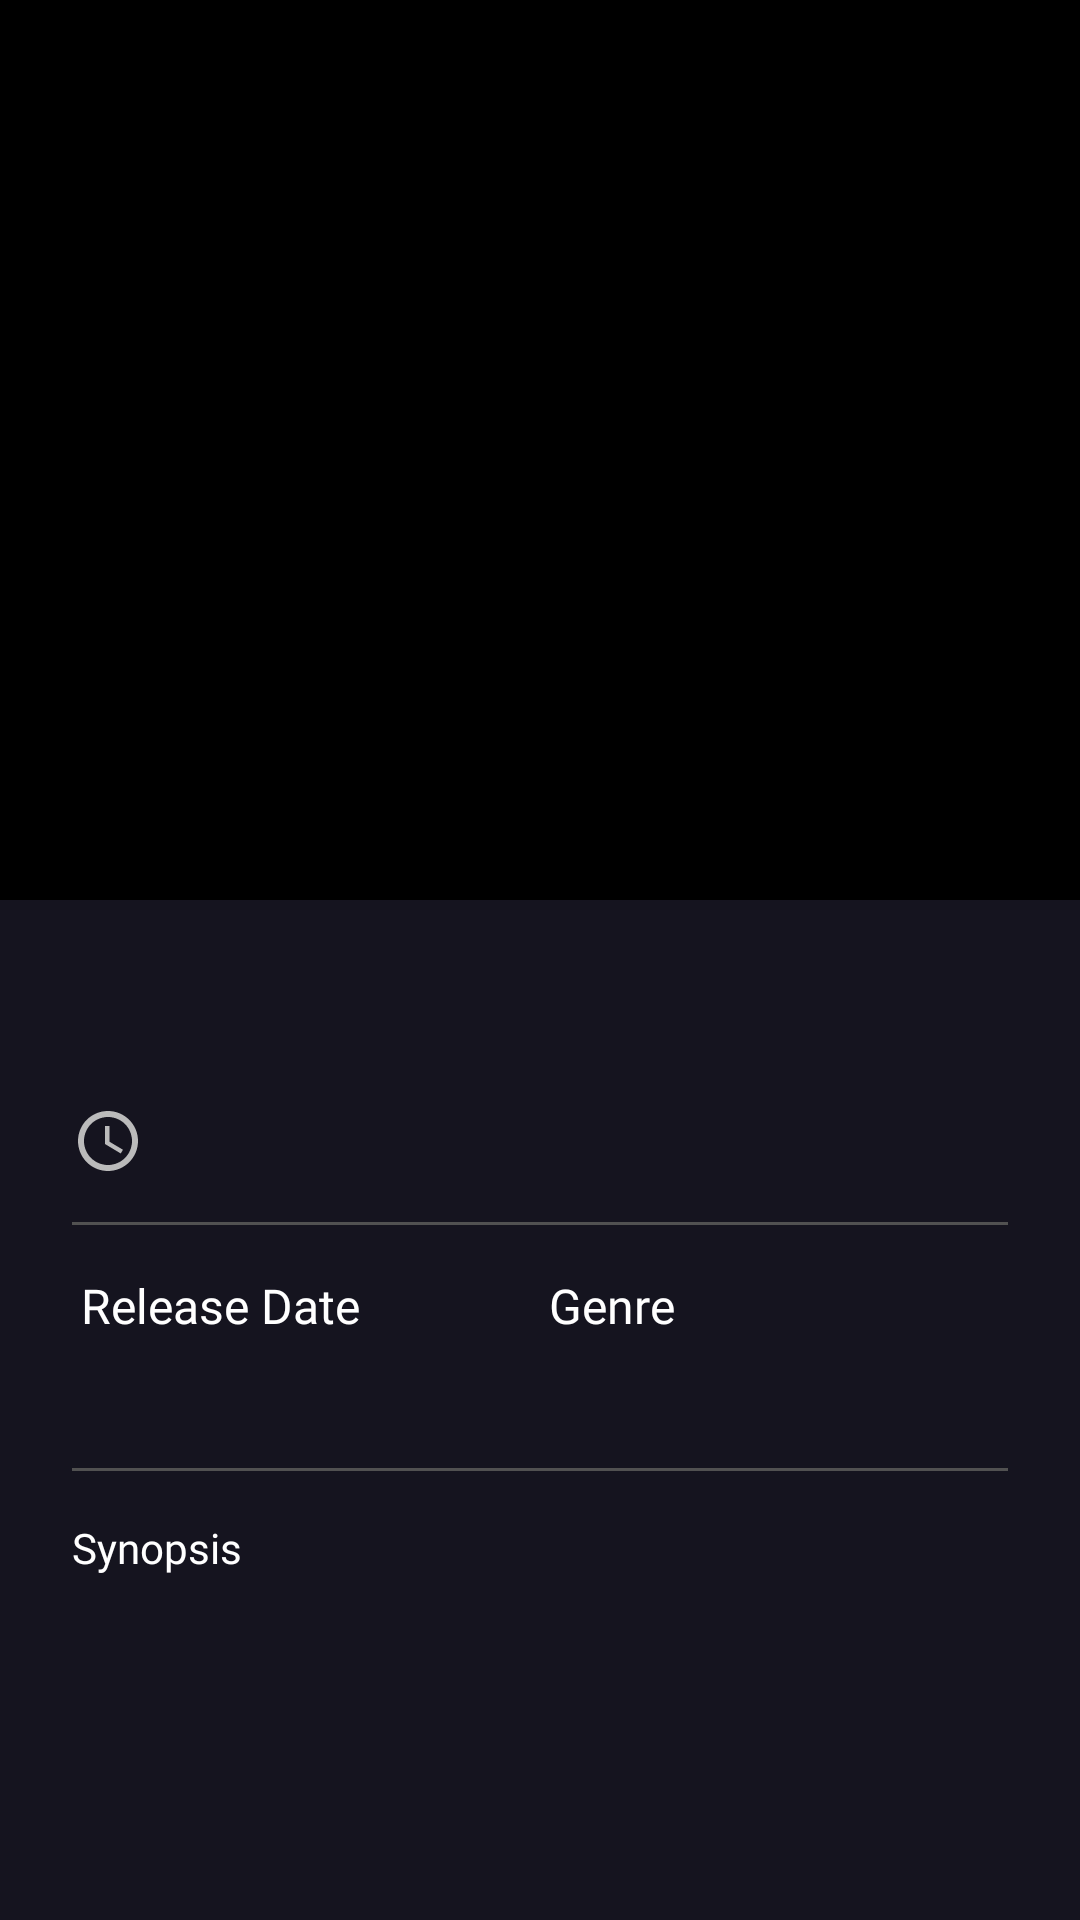

Where icons sit on this 1080w x 1920h app screen, as (x1, y1, x2, y2):
time: (78, 1111, 138, 1171)
